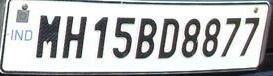character: (61, 15, 89, 59), (34, 13, 60, 60), (111, 16, 135, 59), (134, 17, 157, 59), (220, 17, 242, 58), (158, 17, 179, 59), (240, 16, 260, 58), (181, 18, 200, 57), (93, 15, 109, 60), (202, 18, 220, 57)
